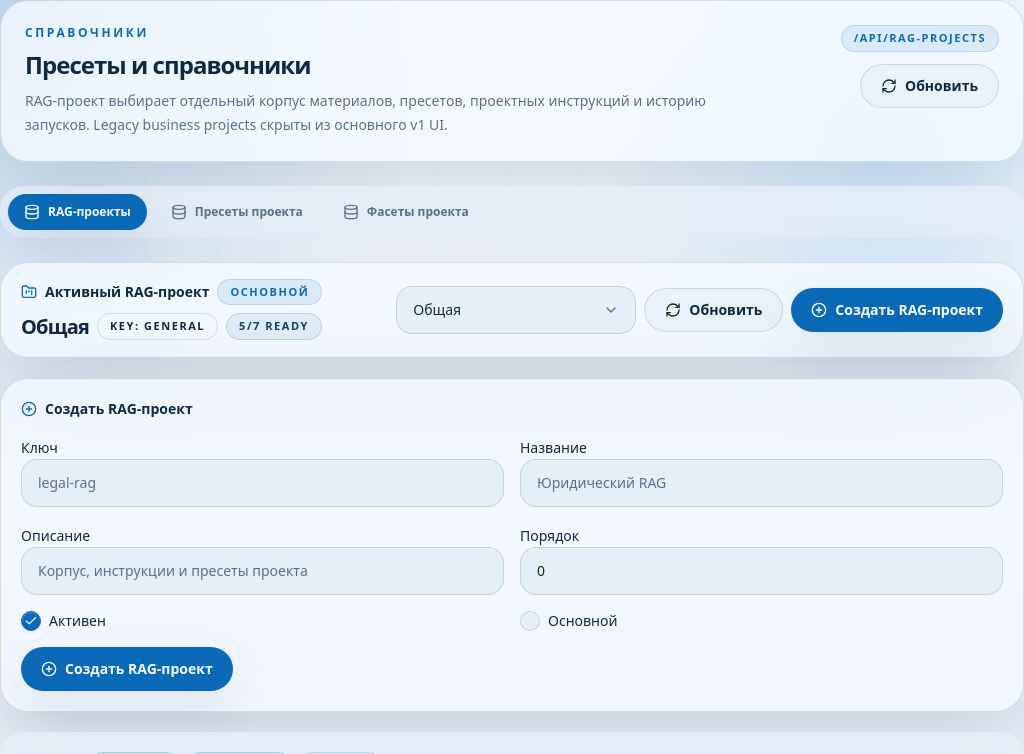
Test: ReferenceDataPanel › validates RAG-project key and name
Click the button "Создать RAG-проект" below "Описание": coordinates (127, 669) [21,647,233,691]
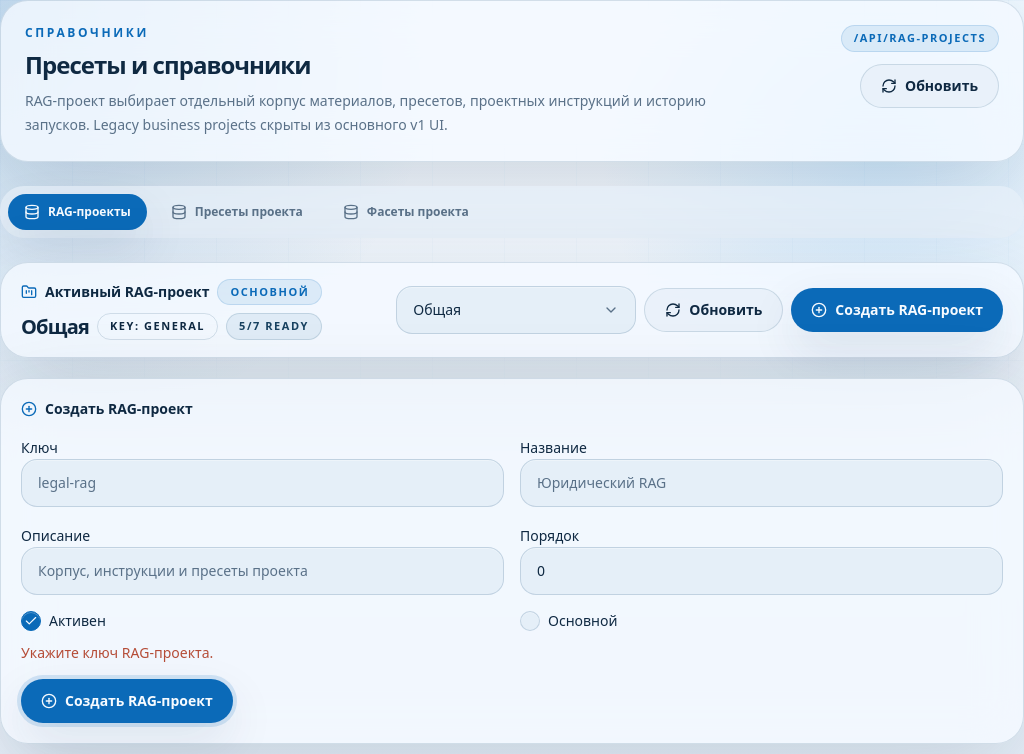
Now the text "Укажите ключ RAG-проекта." is shown, box [21,643,213,662]
In the field labelled "Ключ": coordinates (262, 483) [21,459,504,507], type "south-grid"
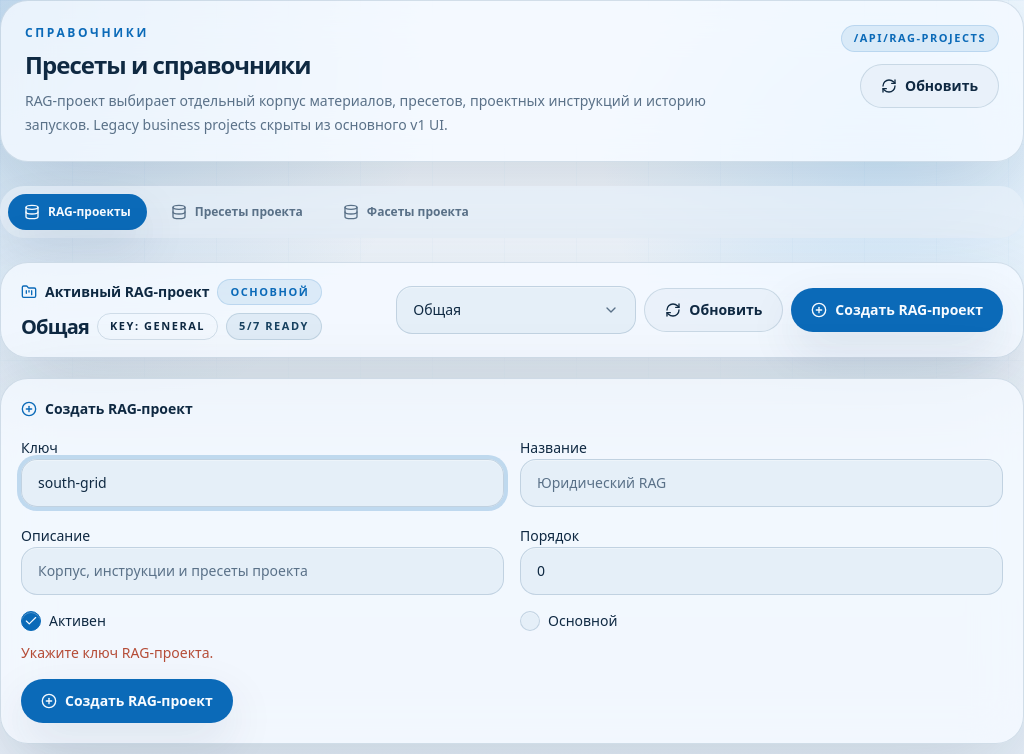
Click the button "Создать RAG-проект" below "Укажите ключ RAG-проекта.": coordinates (127, 701) [21,679,233,723]
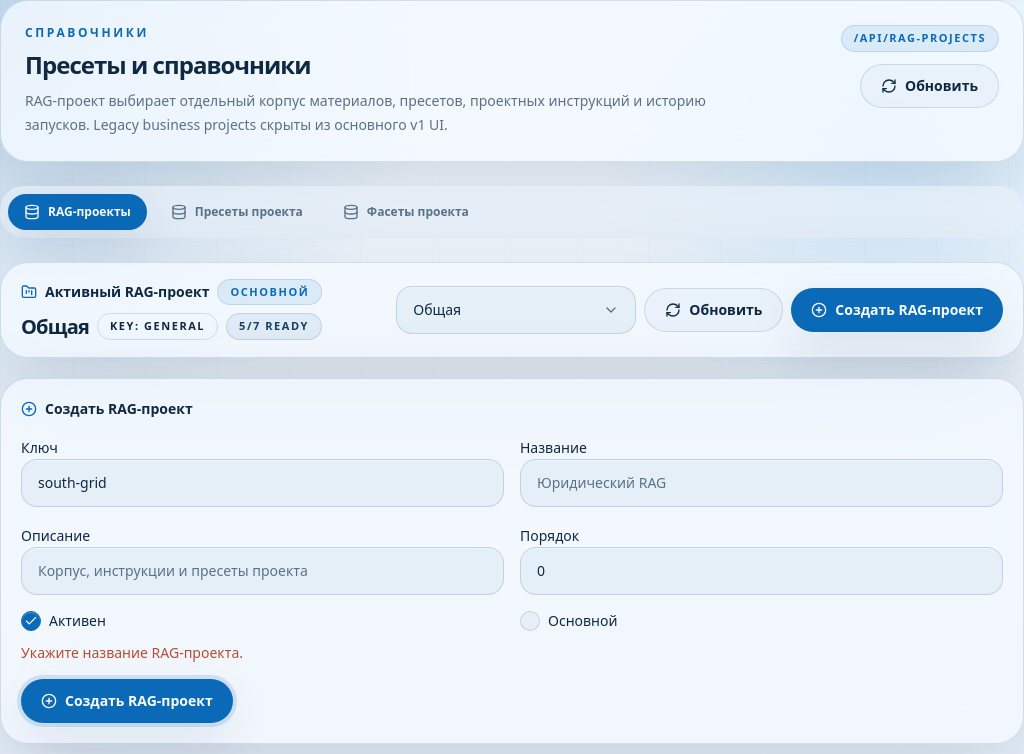
Now the text "Укажите название RAG-проекта." is shown, box [21,643,243,662]
